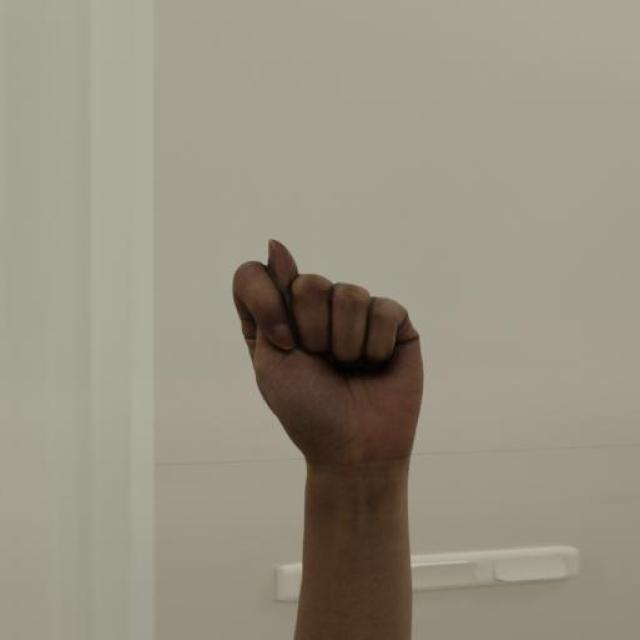T: (229, 237, 433, 472)
